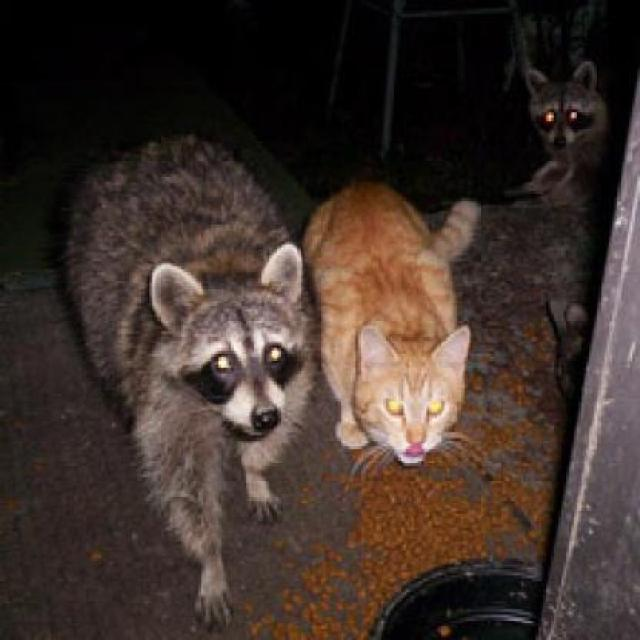raccon: (68, 119, 314, 622)
